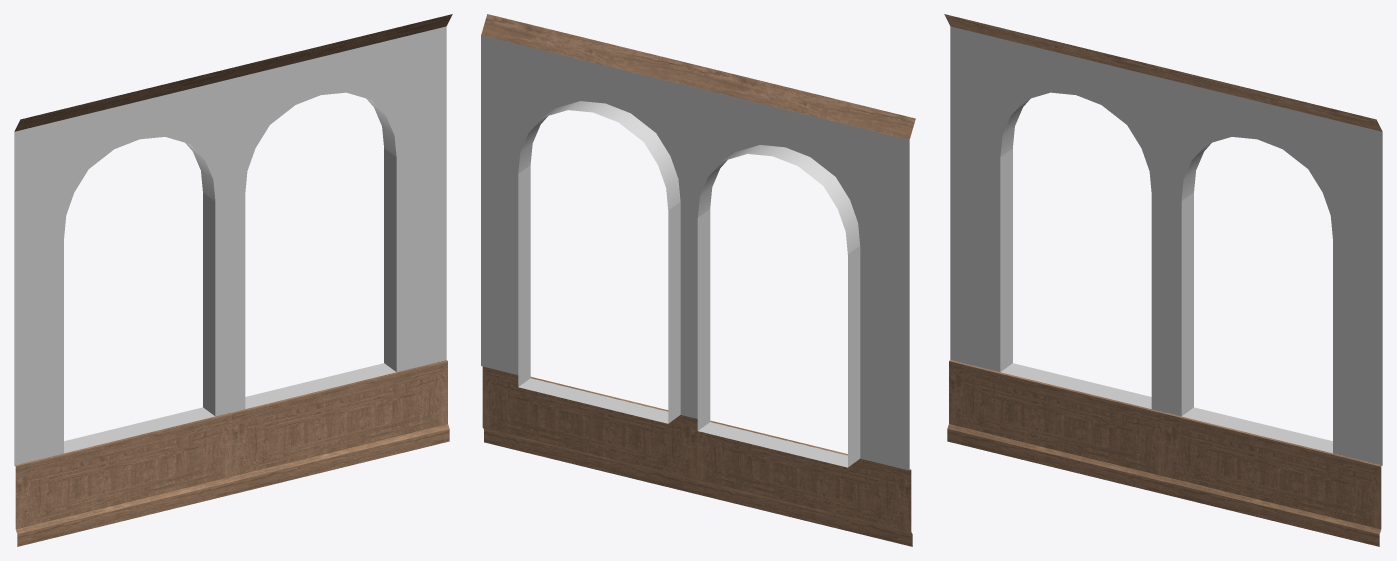
The model's file is WallInt2Window2RoundedA.fbx.
3 renders of one model, left to right at view 1: azimuth 30°, elevation 25°; view 2: azimuth 150°, elevation 25°; view 3: azimuth 330°, elevation 25°, orthographic.
Visible parts, largest first — view 1: WallInt2Window2RoundedA; view 2: WallInt2Window2RoundedA; view 3: WallInt2Window2RoundedA.
Part boxes in pixels (bbox=[...]): WallInt2Window2RoundedA: bbox=[14, 14, 452, 546]; WallInt2Window2RoundedA: bbox=[481, 14, 915, 546]; WallInt2Window2RoundedA: bbox=[944, 14, 1382, 546].
Size of the model in its own units: 400 by 380 by 30.
